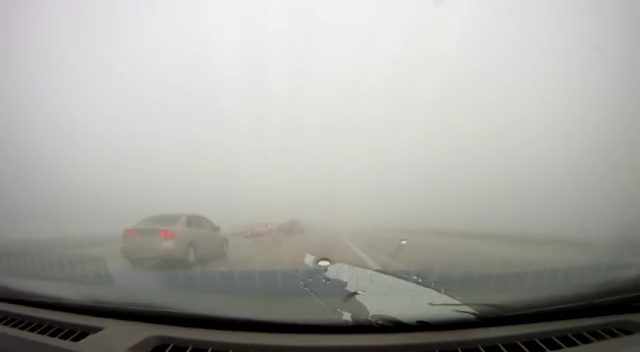car: (120, 213, 230, 266), (286, 219, 304, 234)
